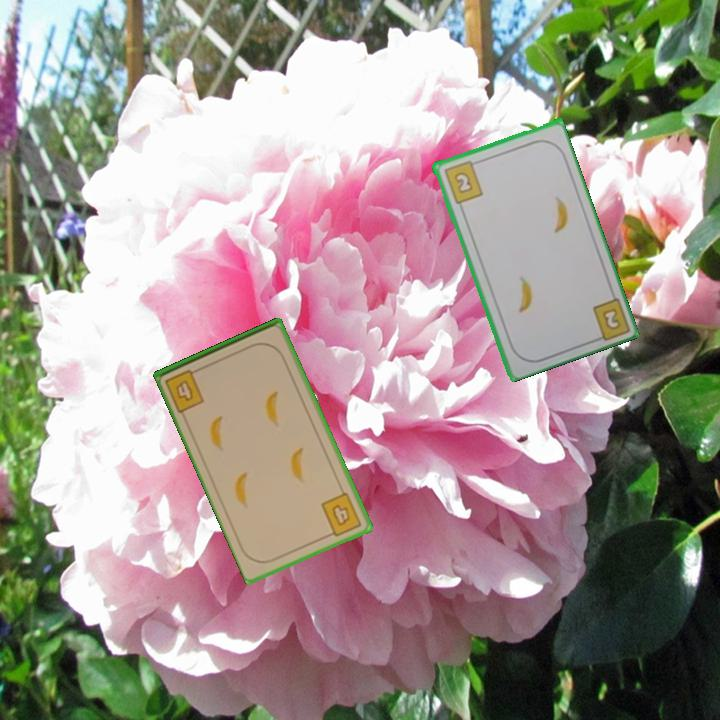2b: (440, 157, 485, 206), (589, 293, 630, 343)
4b: (317, 489, 365, 540), (161, 364, 207, 415)
